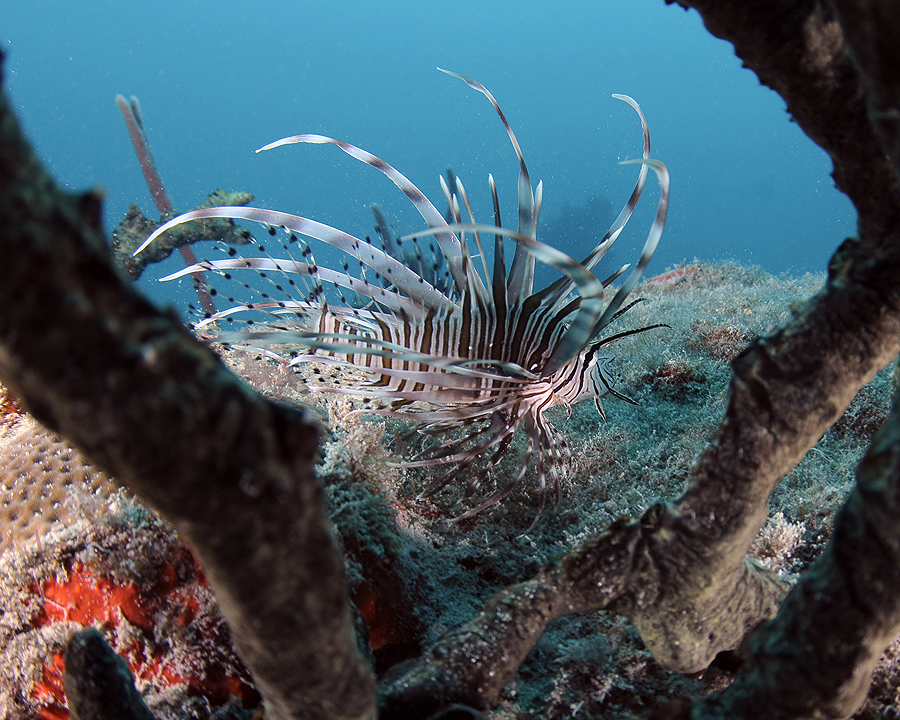Pterois_volitans: (126, 83, 721, 528)
